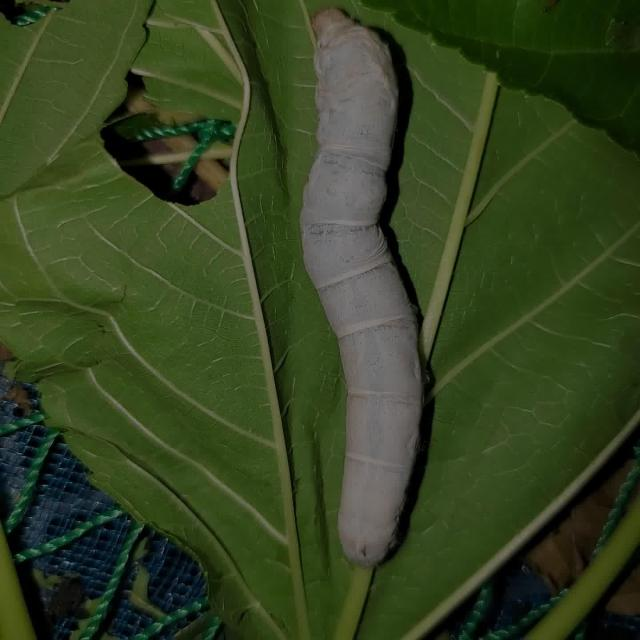Healthy: (272, 0, 477, 574)
